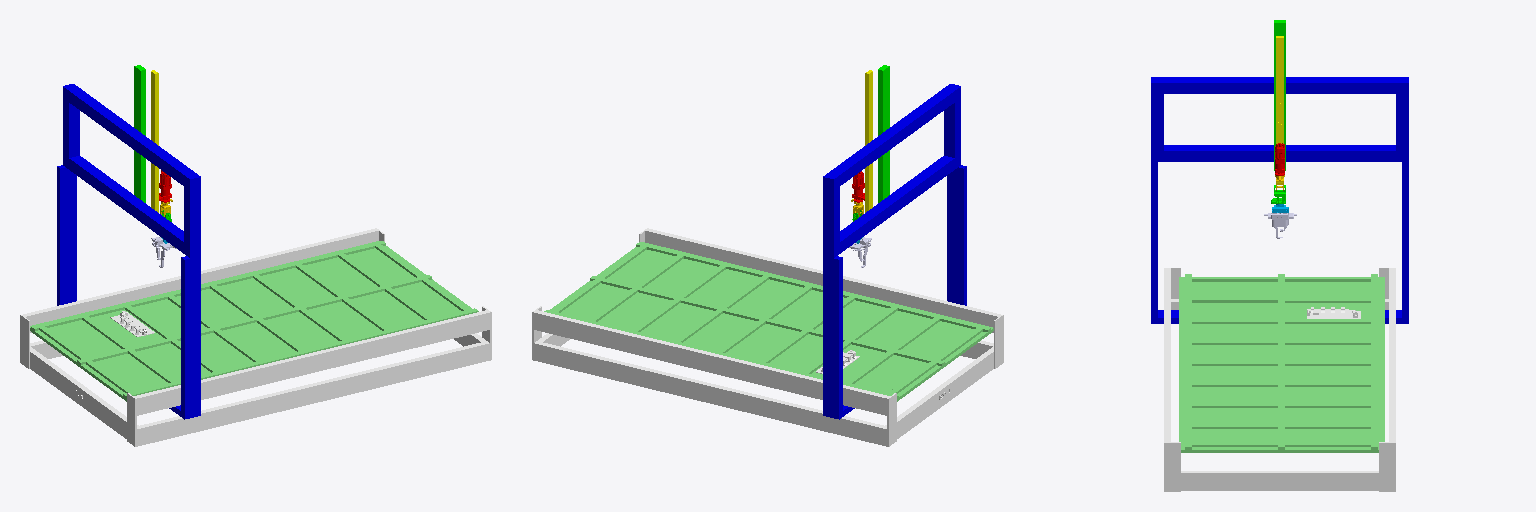
robot.urdf — gantry_robot:
<?xml version="1.0" encoding="utf-8"?>
<!-- =================================================================================== -->
<!-- |    This document was autogenerated by xacro from gantry_joint_limited_robot.urdf.xacro | -->
<!-- |    EDITING THIS FILE BY HAND IS NOT RECOMMENDED                                 | -->
<!-- =================================================================================== -->
<robot name="gantry_robot">
  <gazebo>
    <plugin filename="libgazebo_ros_control.so" name="ros_control">
      <!--robotNamespace>/slave</robotNamespace-->
      <!--robotSimType>gazebo_ros_control/DefaultRobotHWSim</robotSimType-->
      <legacyModeNS>true</legacyModeNS>
    </plugin>
  </gazebo>
  <material name="black">
    <color rgba="0 0 0 1"/>
  </material>
  <material name="white">
    <color rgba="1 1 1 1"/>
  </material>
  <link name="conveyor_base_link">
    <visual>
      <origin xyz="-0.7 0.32 -0.015"/>
      <geometry>
        <mesh filename="package://gantry_description/meshes/Assembly_without_slider.stl"/>
      </geometry>
      <material name="white"/>
    </visual>
    <collision>
      <origin xyz="-0.7 0.32 -0.015"/>
      <geometry>
        <mesh filename="package://gantry_description/meshes/Assembly_without_slider.stl"/>
      </geometry>
    </collision>
  </link>
  <link name="fixed_link">
    <!-- Intermediate link as a reference frame -->
  </link>
  <joint name="fixed_joint" type="fixed">
    <parent link="conveyor_base_link"/>
    <child link="fixed_link"/>
    <origin xyz="0 0 0"/>
  </joint>
  <link name="slider">
    <visual>
      <origin xyz="-0.7 0.32 0"/>
      <geometry>
        <mesh filename="package://gantry_description/meshes/slider.stl"/>
      </geometry>
      <material name="white"/>
    </visual>
    <collision>
      <origin xyz="-0.7 0.32 0"/>
      <geometry>
        <mesh filename="package://gantry_description/meshes/slider.stl"/>
      </geometry>
    </collision>
    <inertial>
      <origin xyz="-0.7 0.32 0"/>
      <mass value="0.5"/>
      <inertia ixx="0.001" ixy="0" ixz="0" iyy="0.001" iyz="0" izz="0.001"/>
    </inertial>
  </link>
  <joint name="slider_joint" type="prismatic">
    <parent link="fixed_link"/>
    <child link="slider"/>
    <origin xyz="0 -0.105 0"/>
    <axis xyz="0 1 0"/>
    <limit effort="100" lower="-0.01" upper="0.19" velocity="0.5"/>
    <dynamics damping="0.1" friction="0.2"/>
  </joint>
  <joint name="base_to_base_plate_joint" type="fixed">
    <parent link="base_plate"/>
    <child link="conveyor_base_link"/>
    <origin rpy="0 0 0" xyz="0 0 0.025"/>
    <!-- Adjust the z-offset to place the conveyor on the base_plate -->
  </joint>
  <transmission name="gantryX_trans">
    <type>transmission_interface/SimpleTransmission</type>
    <joint name="gantryX">
      <hardwareInterface>hardware_interface/PositionJointInterface</hardwareInterface>
    </joint>
    <actuator name="gantryX_motor">
      <mechanicalReduction>1</mechanicalReduction>
    </actuator>
  </transmission>
  <transmission name="gantryY_trans">
    <type>transmission_interface/SimpleTransmission</type>
    <joint name="gantryY">
      <hardwareInterface>hardware_interface/PositionJointInterface</hardwareInterface>
    </joint>
    <actuator name="gantryY_motor">
      <mechanicalReduction>1</mechanicalReduction>
    </actuator>
  </transmission>
  <transmission name="gantryZ_trans">
    <type>transmission_interface/SimpleTransmission</type>
    <joint name="gantryZ">
      <hardwareInterface>hardware_interface/PositionJointInterface</hardwareInterface>
    </joint>
    <actuator name="gantryZ_motor">
      <mechanicalReduction>1</mechanicalReduction>
    </actuator>
  </transmission>
  <transmission name="gantryYAW_trans">
    <type>transmission_interface/SimpleTransmission</type>
    <joint name="gantryYAW">
      <hardwareInterface>hardware_interface/PositionJointInterface</hardwareInterface>
    </joint>
    <actuator name="gantryYAW_motor">
      <mechanicalReduction>1</mechanicalReduction>
    </actuator>
  </transmission>
  <transmission name="gantryPITCH_trans">
    <type>transmission_interface/SimpleTransmission</type>
    <joint name="gantryPITCH">
      <hardwareInterface>hardware_interface/PositionJointInterface</hardwareInterface>
    </joint>
    <actuator name="gantryPITCH_motor">
      <mechanicalReduction>1</mechanicalReduction>
    </actuator>
  </transmission>
  <transmission name="gantryROLL_trans">
    <type>transmission_interface/SimpleTransmission</type>
    <joint name="gantryROLL">
      <hardwareInterface>hardware_interface/PositionJointInterface</hardwareInterface>
    </joint>
    <actuator name="gantryROLL_motor">
      <mechanicalReduction>1</mechanicalReduction>
    </actuator>
  </transmission>
  <gazebo reference="gantryX">
    <selfCollide>true</selfCollide>
  </gazebo>
  <gazebo reference="gantryY">
    <selfCollide>true</selfCollide>
  </gazebo>
  <gazebo reference="gantryZ">
    <selfCollide>true</selfCollide>
  </gazebo>
  <gazebo reference="gantryYAW">
    <selfCollide>true</selfCollide>
  </gazebo>
  <gazebo reference="gantryPITCH">
    <selfCollide>true</selfCollide>
  </gazebo>
  <gazebo reference="gantryROLL">
    <selfCollide>true</selfCollide>
  </gazebo>
  <link name="base_link">
    <!-- fixed structure -->
    <inertial>
      <mass value="1.0"/>
      <inertia ixx="1.0" ixy="0.0" ixz="0.0" iyy="1.0" iyz="0.0" izz="1.0"/>
    </inertial>
    <visual>
      <geometry>
        <mesh filename="package://gantry_description/meshes/Simulation_Base.STL"/>
      </geometry>
      <origin rpy="0 0 0" xyz="0.875 0 0"/>
      <material name="white">
        <color rgba="1 1 1 1"/>
      </material>
    </visual>
    <collision>
      <geometry>
        <mesh filename="package://gantry_description/meshes/Simulation_Base.STL"/>
      </geometry>
      <origin rpy="0 0 0" xyz="0.875 0 0"/>
    </collision>
  </link>
  <joint name="gantryX" type="prismatic">
    <parent link="base_link"/>
    <child link="gantryX_link"/>
    <limit effort="1" lower="0" upper="1.75" velocity="0.5"/>
    <axis xyz="1 0 0"/>
    <origin rpy="0 0 0" xyz="0 0 0.14288"/>
  </joint>
  <link name="gantryX_link">
    <inertial>
      <mass value="1.0"/>
      <inertia ixx="1.0" ixy="0.0" ixz="0.0" iyy="1.0" iyz="0.0" izz="1.0"/>
    </inertial>
    <visual>
      <geometry>
        <mesh filename="package://gantry_description/meshes/Simulation_X_Axis.STL"/>
      </geometry>
      <origin rpy="0 0 0" xyz="0 0 0.5461"/>
      <material name="blue">
        <color rgba="0 0 1 1"/>
      </material>
    </visual>
    <collision>
      <geometry>
        <mesh filename="package://gantry_description/meshes/Simulation_X_Axis.STL"/>
      </geometry>
      <origin rpy="0 0 0" xyz="0 0 0.5461"/>
    </collision>
  </link>
  <joint name="gantryY" type="prismatic">
    <parent link="gantryX_link"/>
    <child link="gantryY_link"/>
    <limit effort="1" lower="-0.5" upper="0.5" velocity="0.5"/>
    <axis xyz="0 1 0"/>
    <origin rpy="0 0 0" xyz="0.077 0 1.49793"/>
  </joint>
  <link name="gantryY_link">
    <inertial>
      <mass value="1.0"/>
      <inertia ixx="1.0" ixy="0.0" ixz="0.0" iyy="1.0" iyz="0.0" izz="1.0"/>
    </inertial>
    <visual>
      <geometry>
        <mesh filename="package://gantry_description/meshes/Simulation_Y_Axis.STL"/>
      </geometry>
      <origin rpy="0 0 0" xyz="0 0 0"/>
      <material name="green">
        <color rgba="0 1 0 1"/>
      </material>
    </visual>
    <collision>
      <geometry>
        <mesh filename="package://gantry_description/meshes/Simulation_Y_Axis.STL"/>
      </geometry>
      <origin rpy="0 0 0" xyz="0 0 0"/>
    </collision>
  </link>
  <joint name="gantryZ" type="prismatic">
    <parent link="gantryY_link"/>
    <child link="gantryZ_link"/>
    <limit effort="1" lower="0.0" upper="0.625" velocity="0.5"/>
    <axis xyz="0 0 -1"/>
    <origin rpy="0 0 0" xyz="0.09843 0 -0.5334"/>
    <!-- xyz="0.09843 0 -0.5334"  -->
  </joint>
  <link name="gantryZ_link">
    <inertial>
      <mass value="0.001"/>
      <inertia ixx="0.001" ixy="0.0" ixz="0.0" iyy="0.001" iyz="0.0" izz="0.001"/>
    </inertial>
    <visual>
      <geometry>
        <mesh filename="package://gantry_description/meshes/Simulation_Z_Axis.STL"/>
      </geometry>
      <origin rpy="0 1.5707 0" xyz="0 0 0"/>
      <material name="yellow">
        <color rgba="1 1 0 1"/>
      </material>
    </visual>
    <collision>
      <geometry>
        <mesh filename="package://gantry_description/meshes/Simulation_Z_Axis.STL"/>
      </geometry>
      <origin rpy="0 1.5707 0" xyz="0 0 0"/>
    </collision>
  </link>
  <!--  YAW ADDITION START -->
  <joint name="gantryYAW_Motor" type="fixed">
    <parent link="gantryZ_link"/>
    <child link="gantryYAW_Motor_link"/>
    <origin rpy="0 1.5707 0" xyz="0.0754 0.0 0.1"/>
    <!-- "0 1.5707 0" xyz="0.0754 0.0 0.1" -->
  </joint>
  <link name="gantryYAW_Motor_link">
    <inertial>
      <mass value="0.001"/>
      <inertia ixx="0.001" ixy="0.00" ixz="0.00" iyy="0.001" iyz="0.00" izz="0.001"/>
    </inertial>
    <visual>
      <geometry>
        <mesh filename="package://gantry_description/meshes/roll_motor.STL" scale="0.001 0.001 0.001"/>
      </geometry>
      <material name="white">
        <color rgba="1 0 0 1"/>
      </material>
    </visual>
    <origin rpy="0 0 0" xyz="0 0 0"/>
    <collision>
      <geometry>
        <mesh filename="package://gantry_description/meshes/roll_motor.STL" scale="0.001 0.001 0.001"/>
      </geometry>
    </collision>
  </link>
  <joint name="gantryYAW" type="revolute">
    <parent link="gantryZ_link"/>
    <child link="gantryYAW_link"/>
    <origin rpy="0 1.5707 0" xyz="0.075 0.0 0.1"/>
    <!-- xyz="0.0754 0.0 0.1" -->
    <limit effort="1" lower="-3.1415" upper="3.1415" velocity="3.15"/>
    <axis xyz="1 0 0"/>
  </joint>
  <link name="gantryYAW_link">
    <inertial>
      <mass value="0.001"/>
      <inertia ixx="0.001" ixy="0.00" ixz="0.00" iyy="0.001" iyz="0.00" izz="0.001"/>
    </inertial>
    <visual>
      <geometry>
        <mesh filename="package://gantry_description/meshes/roll_mini.STL" scale="0.001 0.001 0.001"/>
      </geometry>
      <material name="gold">
        <color rgba="1 0.84 0 1"/>
      </material>
    </visual>
    <origin rpy="0 0 0" xyz="0 0 0"/>
    <collision>
      <geometry>
        <mesh filename="package://gantry_description/meshes/roll_mini.STL" scale="0.001 0.001 0.001"/>
      </geometry>
    </collision>
  </link>
  <!--   YAW ADDITION END -->
  <!--  PITCH ADDITION START -->
  <joint name="gantryPITCH" type="revolute">
    <parent link="gantryYAW_link"/>
    <child link="gantryPITCH_link"/>
    <origin rpy="0 0 0" xyz="0.0859 0.0 0.0 "/>
    <limit effort="1" lower="-1.5707" upper="1.5707" velocity="3.15"/>
    <axis xyz="0 1 0"/>
  </joint>
  <link name="gantryPITCH_link">
    <inertial>
      <mass value="0.001"/>
      <inertia ixx="0.001" ixy="0.00" ixz="0.00" iyy="0.001" iyz="0.00" izz="0.001"/>
    </inertial>
    <visual>
      <geometry>
        <mesh filename="package://gantry_description/meshes/pitch.STL" scale="0.001 0.001 0.001"/>
      </geometry>
      <material name="green">
        <color rgba="0 1 0 1"/>
      </material>
    </visual>
    <origin rpy="1.5707 0 0" xyz="0 0 0"/>
    <collision>
      <geometry>
        <mesh filename="package://gantry_description/meshes/pitch.STL" scale="0.001 0.001 0.001"/>
      </geometry>
    </collision>
  </link>
  <!--  PITCH ADDITION END -->
  <!--  ROLL ADDITION START -->
  <joint name="gantryROLL" type="revolute">
    <parent link="gantryPITCH_link"/>
    <child link="gantryROLL_link"/>
    <origin rpy="0 0 0" xyz="0.098 0.0 0.0"/>
    <!-- xyz="0.098 0.0 0.0 -->
    <limit effort="1" lower="-3.1415" upper="3.1415" velocity="3.15"/>
    <axis xyz="1 0 0"/>
  </joint>
  <link name="gantryROLL_link">
    <inertial>
      <mass value="0.001"/>
      <inertia ixx="0.001" ixy="0.00" ixz="0.001" iyy="1.0" iyz="0.00" izz="0.001"/>
    </inertial>
    <visual>
      <geometry>
        <mesh filename="package://gantry_description/meshes/yaw.STL" scale="0.001 0.001 0.001"/>
      </geometry>
      <material name="deep_blue">
        <color rgba="0 0.75 1 1"/>
      </material>
    </visual>
    <origin rpy="1.5707 0 0" xyz="0 0 0"/>
    <collision>
      <geometry>
        <mesh filename="package://gantry_description/meshes/yaw.STL" scale="0.001 0.001 0.001"/>
      </geometry>
    </collision>
  </link>
  <!--  ROLL ADDITION END -->
  <!--  IN-HAND ADDITION START -->
  <joint name="inhand_cam_joint" type="fixed">
    <parent link="gantryROLL_link"/>
    <child link="inhand_link"/>
    <origin rpy="0.0 0.0 0.0" xyz="0.12403 0.0294 0.05638"/>
  </joint>
  <link name="inhand_link">
    <inertial>
      <mass value="0.001"/>
      <inertia ixx="0.001" ixy="0.00" ixz="0.001" iyy="1.0" iyz="0.00" izz="0.001"/>
    </inertial>
    <visual>
      <geometry>
        <mesh filename="package://gantry_description/meshes/in-hand.STL" scale="0.001 0.001 0.001"/>
      </geometry>
      <material name="grey">
        <color rgba="0.9 0.9 1 1"/>
      </material>
    </visual>
    <origin rpy="0 0 0" xyz="0 0 0"/>
    <collision>
      <geometry>
        <mesh filename="package://gantry_description/meshes/in-hand.STL" scale="0.001 0.001 0.001"/>
      </geometry>
    </collision>
  </link>
  <!--  IN-HAND ADDITION END -->
  <!--  GRIPPER ADDITION START-->
  <joint name="gripper_joint" type="fixed">
    <parent link="gantryROLL_link"/>
    <child link="gripper_link"/>
    <origin rpy="0.0 0.0 0.0" xyz="0.08738 0.017 0.0 "/>
    <!--"0.0875 0.0127 0"-->
  </joint>
  <link name="gripper_link">
    <inertial>
      <mass value="0.001"/>
      <inertia ixx="0.001" ixy="0.00" ixz="0.001" iyy="1.0" iyz="0.00" izz="0.001"/>
    </inertial>
    <visual>
      <geometry>
        <mesh filename="package://gantry_description/meshes/gripper.STL" scale="0.001 0.001 0.001"/>
      </geometry>
      <material name="grey">
        <color rgba="0.9 0.9 1 1"/>
      </material>
    </visual>
    <origin rpy="0 0 0" xyz="0 0 0"/>
    <collision>
      <geometry>
        <mesh filename="package://gantry_description/meshes/gripper.STL" scale="0.001 0.001 0.001"/>
      </geometry>
    </collision>
  </link>
  <!--  GRIPPER ADDITION END -->
  <joint name="ee_fixed_joint" type="fixed">
    <parent link="gripper_link"/>
    <child link="ee_link"/>
    <origin rpy="0.0 0.0 0.0" xyz="0.156 0.00925 -0.03188"/>
    <!-- xyz="0.225 0 -0.03175" 0.24 0 0 -->
  </joint>
  <link name="ee_link">
    <origin rpy="0 0 0" xyz="0 0 0"/>
    <collision>
      <geometry>
        <box size="0.015 0.015 0.015"/>
      </geometry>
    </collision>
    <inertial>
      <mass value="0.001"/>
      <inertia ixx="0.001" ixy="0.0" ixz="0.0" iyy="0.001" iyz="0.0" izz="0.001"/>
    </inertial>
  </link>
  <!-- ROS base_link to UR 'Base' Coordinates transform -->
  <!--link name="base"/>
  <joint name="base_link-base_fixed_joint" type="fixed">
      <origin xyz="0 0 0" rpy="0 0 0"/>
      <parent link="${prefix}base_link"/>
      <child link="${prefix}base"/>
    </joint-->
  <!-- Frame coincident with all-zeros TCP on UR controller -->
  <!--link name="${prefix}tool0"/>
    <joint name="${prefix}gantryYAW_link-tool0_fixed_joint" type="fixed">
      <origin xyz="0 0 -0.24" rpy="0 0 0"/>
      <parent link="${prefix}gantryYAW_link"/>
      <child link="${prefix}tool0"/>
    </joint-->
  <!--link name="world" />
    <joint name="world_joint" type="fixed">
        <parent link="world" />
        <child link="base_link" />
        <origin rpy="0.0 0.0 0.0" xyz="0.0 0.0 0.0" />
    </joint-->
  <!--transmission name="trans_gantryX">
        <type>transmission_interface/SimpleTransmission</type>
        <joint name="gantryX">
            <hardwareInterface>hardware_interface/PositionJointInterface</hardwareInterface>
        </joint>
        <actuator name="gantryX_motor">
            <hardwareInterface>hardware_interface/PositionJointInterface</hardwareInterface>
            <mechanicalReduction>1</mechanicalReduction>
        </actuator>
    </transmission>

    <transmission name="trans_gantryY">
        <type>transmission_interface/SimpleTransmission</type>
        <joint name="gantryY">
            <hardwareInterface>hardware_interface/PositionJointInterface</hardwareInterface>
        </joint>
        <actuator name="gantryY_motor">
            <hardwareInterface>hardware_interface/PositionJointInterface</hardwareInterface>
            <mechanicalReduction>1</mechanicalReduction>
        </actuator>
    </transmission>

    <transmission name="trans_gantryZ">
        <type>transmission_interface/SimpleTransmission</type>
        <joint name="gantryZ">
            <hardwareInterface>hardware_interface/PositionJointInterface</hardwareInterface>
        </joint>
        <actuator name="gantryZ_motor">
            <hardwareInterface>hardware_interface/PositionJointInterface</hardwareInterface>
            <mechanicalReduction>1</mechanicalReduction>
        </actuator>
    </transmission>

    <gazebo>
        <plugin name="gazebo_ros_control" filename="libgazebo_ros_control.so">
            <robotNamespace>/</robotNamespace>
        </plugin>
    </gazebo-->
  <!-- base plate link definition -->
  <link name="base_plate">
    <inertial>
      <mass value="1.0"/>
      <inertia ixx="1.0" ixy="0.0" ixz="0.0" iyy="1.0" iyz="0.0" izz="1.0"/>
    </inertial>
    <visual>
      <geometry>
        <mesh filename="package://gantry_description/meshes/gantry_base_plate.stl"/>
      </geometry>
      <origin rpy="0 0 0" xyz="-1.25 -0.6 -0.01"/>
      <material name="light_green">
        <color rgba="0.56 0.93 0.56 1"/>
      </material>
    </visual>
    <collision>
      <geometry>
        <mesh filename="package://gantry_description/meshes/gantry_base_plate.stl"/>
      </geometry>
      <origin rpy="0 0 0" xyz="-1.25 -0.6 -0.01"/>
    </collision>
  </link>
  <!-- Fixed joints to attach the base plate -->
  <joint name="base_plate_to_side" type="fixed">
    <parent link="base_link"/>
    <child link="base_plate"/>
    <origin rpy="0 0 0" xyz="0.91 0 0.255"/>
  </joint>
  <!-- Plant Pot 1 (Visual Only, No Collision, Light Green Color) -->
  <link name="plant_pot_1">
    <visual>
      <geometry>
        <mesh filename="package://gantry_description/meshes/plantpot.stl" scale="0.1 0.1 0.1"/>
      </geometry>
      <origin rpy="1.57 0 0" xyz="0.14 0.4 0"/>
      <material name="light_green">
        <color rgba="0.56 0.93 0.56 1"/>
      </material>
    </visual>
  </link>
  <joint name="plant_pot_1_joint" type="fixed">
    <parent link="base_plate"/>
    <child link="plant_pot_1"/>
    <origin rpy="0 0 0" xyz="0 0 0"/>
  </joint>
  <!-- Plant Pot 2 (Visual Only, No Collision, Light Green Color) -->
  <link name="plant_pot_2">
    <visual>
      <geometry>
        <mesh filename="package://gantry_description/meshes/plantpot.stl" scale="0.1 0.1 0.1"/>
      </geometry>
      <origin rpy="1.57 0 0" xyz="0.14 0.325 0"/>
      <material name="light_green">
        <color rgba="0.56 0.93 0.56 1"/>
      </material>
    </visual>
  </link>
  <joint name="plant_pot_2_joint" type="fixed">
    <parent link="base_plate"/>
    <child link="plant_pot_2"/>
    <origin rpy="0 0 0" xyz="0 0 0"/>
  </joint>
  <!-- gantryROLL_lower_limit="-3.1415"  gantryROLL_upper_limit="3.1415" -->
  <!--  <link name="world" />-->
  <!--  <joint name="world_joint" type="fixed">-->
  <!--    <parent link="world" />-->
  <!--    <child link = "base_link" />-->
  <!--    <origin xyz="0.0 0.0 0.0" rpy="0.0 0.0 0.0" />-->
  <!--  </joint>-->
</robot>

--- What the picture shows (computed from the rendered views, not written in the file) ---
The picture shows the robot from 3 angles, left to right: view 1: azimuth 30°, elevation 25°; view 2: azimuth 150°, elevation 25°; view 3: azimuth 270°, elevation 25°; orthographic projection.
Robot: gantry_robot — 17 links, 16 joints (3 revolute, 4 prismatic, 9 fixed); root link base_link; default pose: all joints at 0.
Links seen in each view (by area): view 1: base_plate, base_link, gantryX_link, gantryY_link, gantryZ_link; view 2: base_plate, base_link, gantryX_link, gantryY_link, gantryZ_link; view 3: base_plate, gantryX_link, base_link, gantryZ_link, gantryY_link, conveyor_base_link.
Link boxes in pixels (bbox=[...]): base_plate: bbox=[30, 241, 478, 401]; base_link: bbox=[20, 228, 491, 446]; gantryX_link: bbox=[57, 84, 200, 419]; gantryY_link: bbox=[134, 65, 145, 202]; gantryZ_link: bbox=[151, 70, 158, 212]; base_plate: bbox=[544, 242, 993, 401]; base_link: bbox=[532, 228, 1003, 446]; gantryX_link: bbox=[823, 84, 966, 419]; gantryY_link: bbox=[878, 65, 889, 202]; gantryZ_link: bbox=[865, 70, 872, 212]; base_plate: bbox=[1179, 274, 1384, 452]; gantryX_link: bbox=[1151, 77, 1408, 323]; base_link: bbox=[1164, 268, 1395, 491]; gantryZ_link: bbox=[1276, 36, 1283, 182]; gantryY_link: bbox=[1274, 20, 1285, 170]; conveyor_base_link: bbox=[1307, 307, 1360, 318].
Bounding box of the posed robot: 2.46 × 1.52 × 2.12 m (x, y, z).
13 mesh visuals loaded from 14 distinct referenced files (13 binary STL); not drawn: 2 (reference not matched to a file when rendering).
